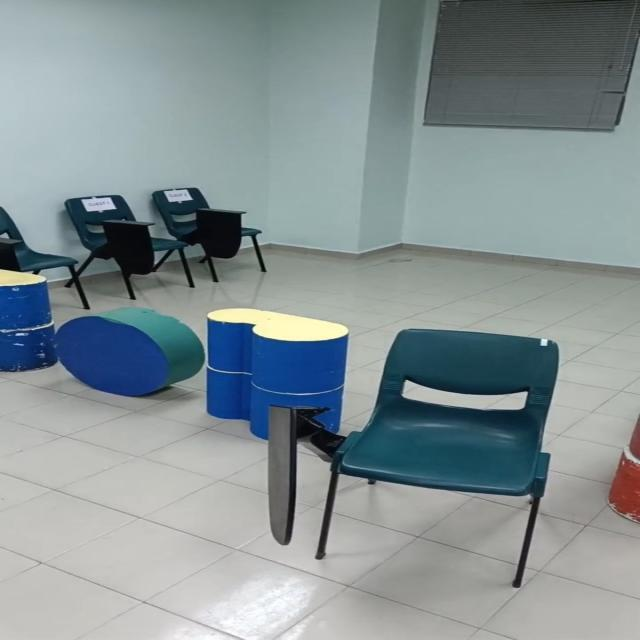sandalye: (298, 328, 559, 588), (65, 195, 193, 300), (152, 188, 266, 282)
